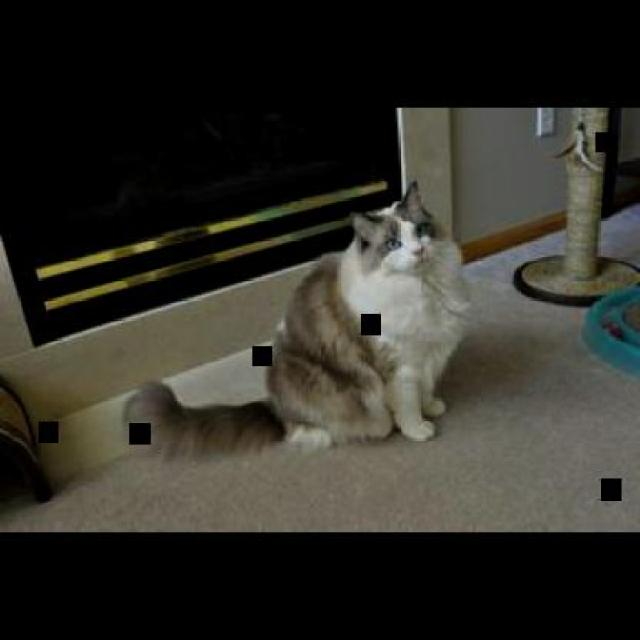unauthorized: (123, 177, 471, 460)
